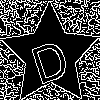D: (25, 30, 72, 85)
